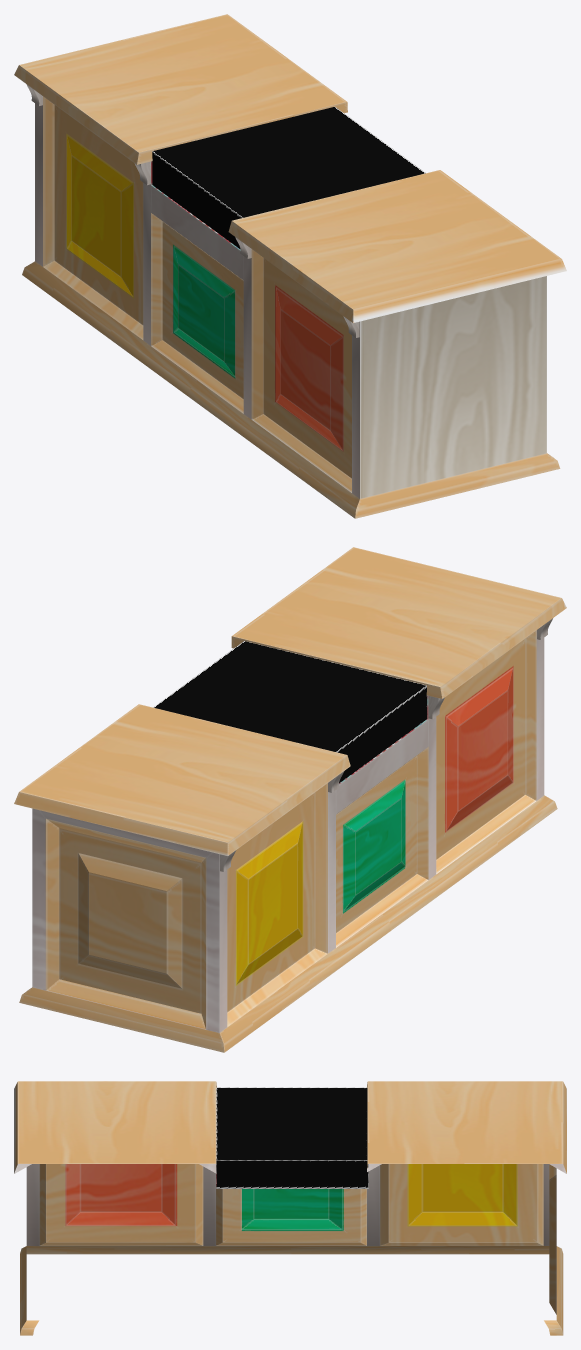
File: Ladentresen_mit_Glasvitrine (1).FBX
3 renders of one model, top to bottom at view 1: azimuth 30°, elevation 25°; view 2: azimuth 150°, elevation 25°; view 3: azimuth 270°, elevation 25°, orthographic. The views are drawn at different scales.
Parts seen in each view (by area): view 1: Box002, Box006; view 2: Box002, Box006; view 3: Box002, Box006.
Boxes of the visible parts, x1,y1,x2,y2 form: Box002: (14,14,566,518); Box006: (26,84,425,337); Box002: (14,547,566,1052); Box006: (153,618,552,871); Box002: (14,1081,566,1335); Box006: (216,1087,368,1188).
Size of the model in its own units: 73.13 by 68.85 by 201.
